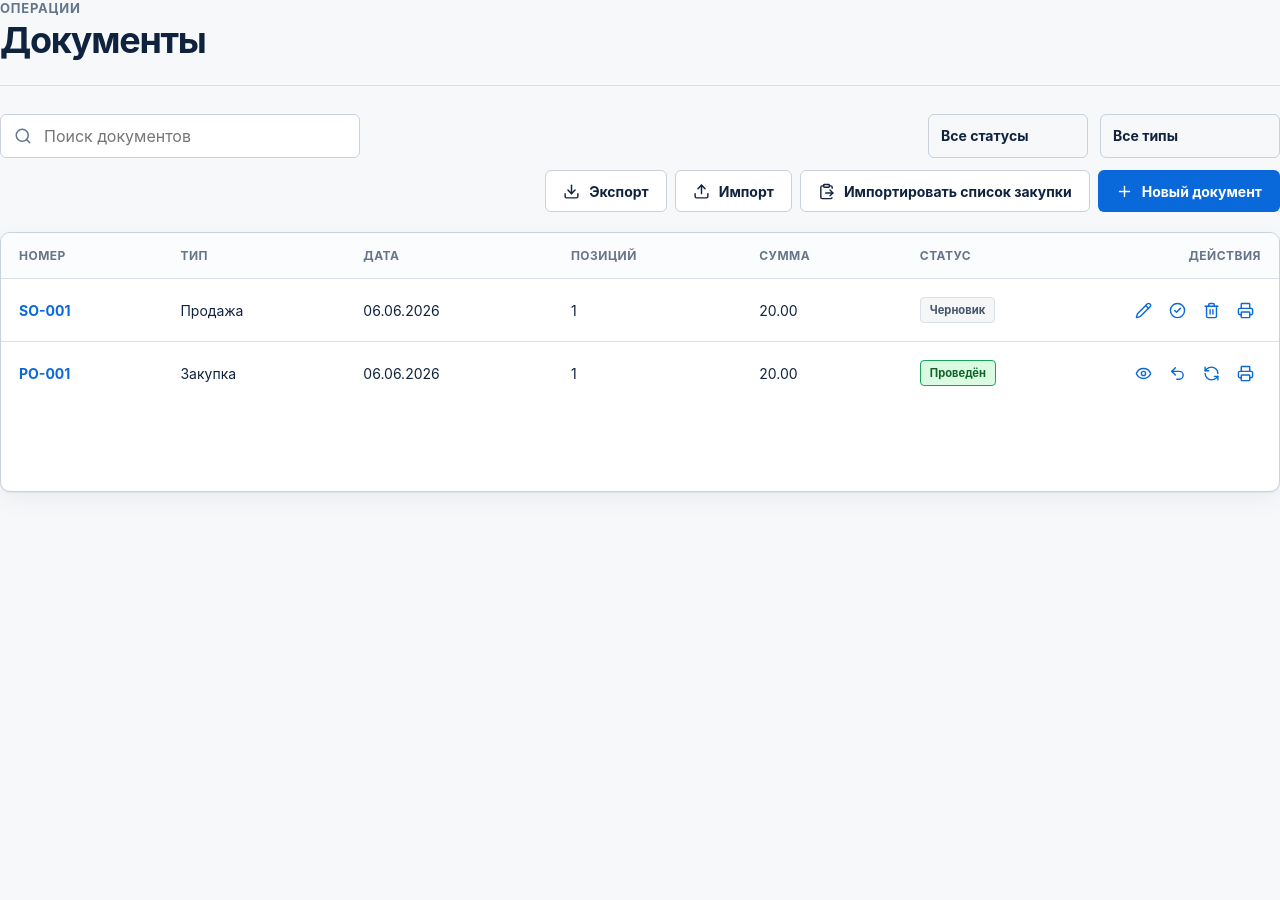
Test: documents workspace › warns about insufficient stock while editing a sale draft
The width and height of the screenshot is (1280, 900).
Expected: the button "SO-001" is shown, x1=19 y1=302 x2=70 y2=319
Click the button "Новый документ": [1189, 191] box x1=1098 y1=170 x2=1279 y2=212
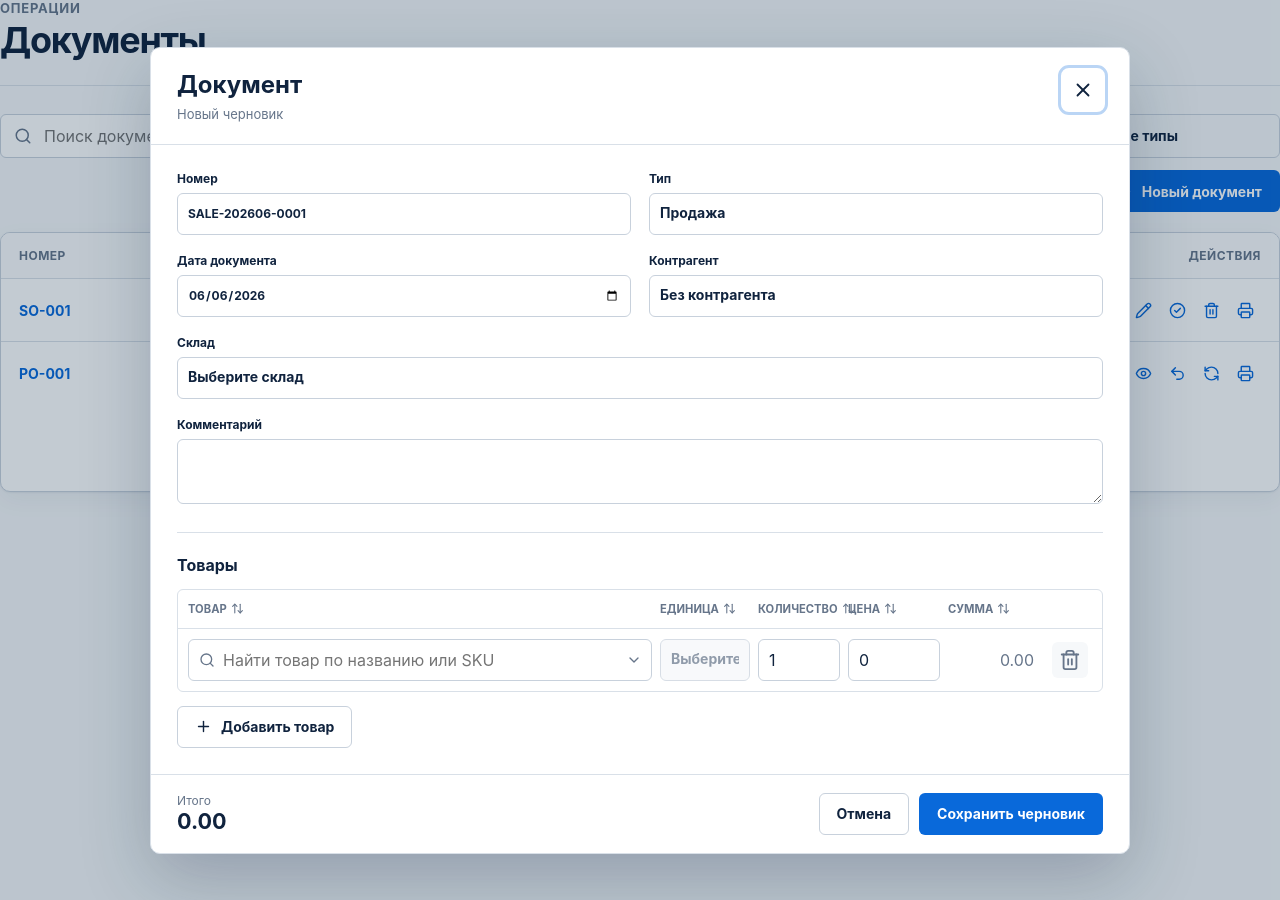
Replace the text in the field labelled "Номер" with "SO-003": [404, 214] box x1=177 y1=192 x2=631 y2=234
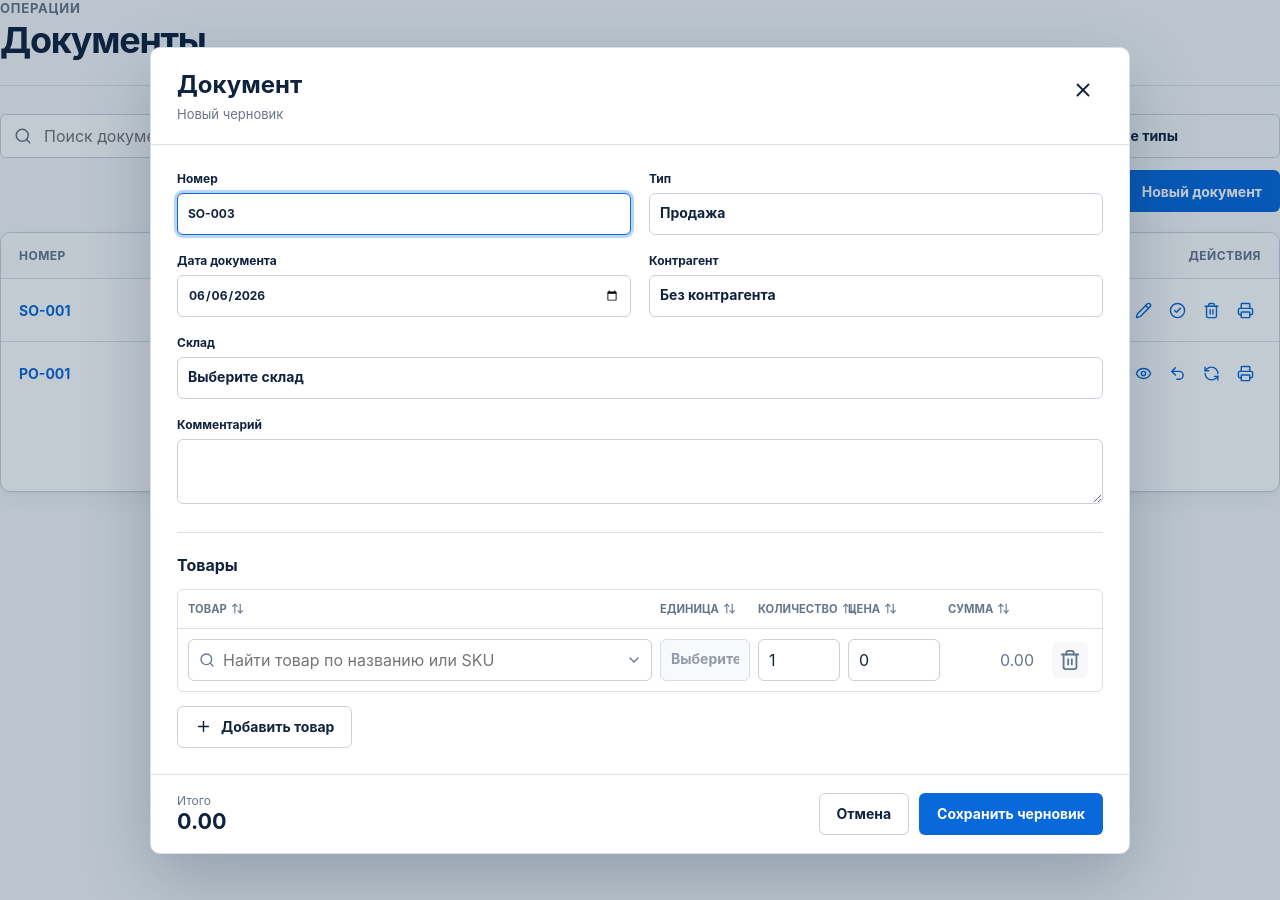
Select "MAIN · Main" in the dropdown labelled "Склад": [640, 378] box x1=177 y1=356 x2=1103 y2=398
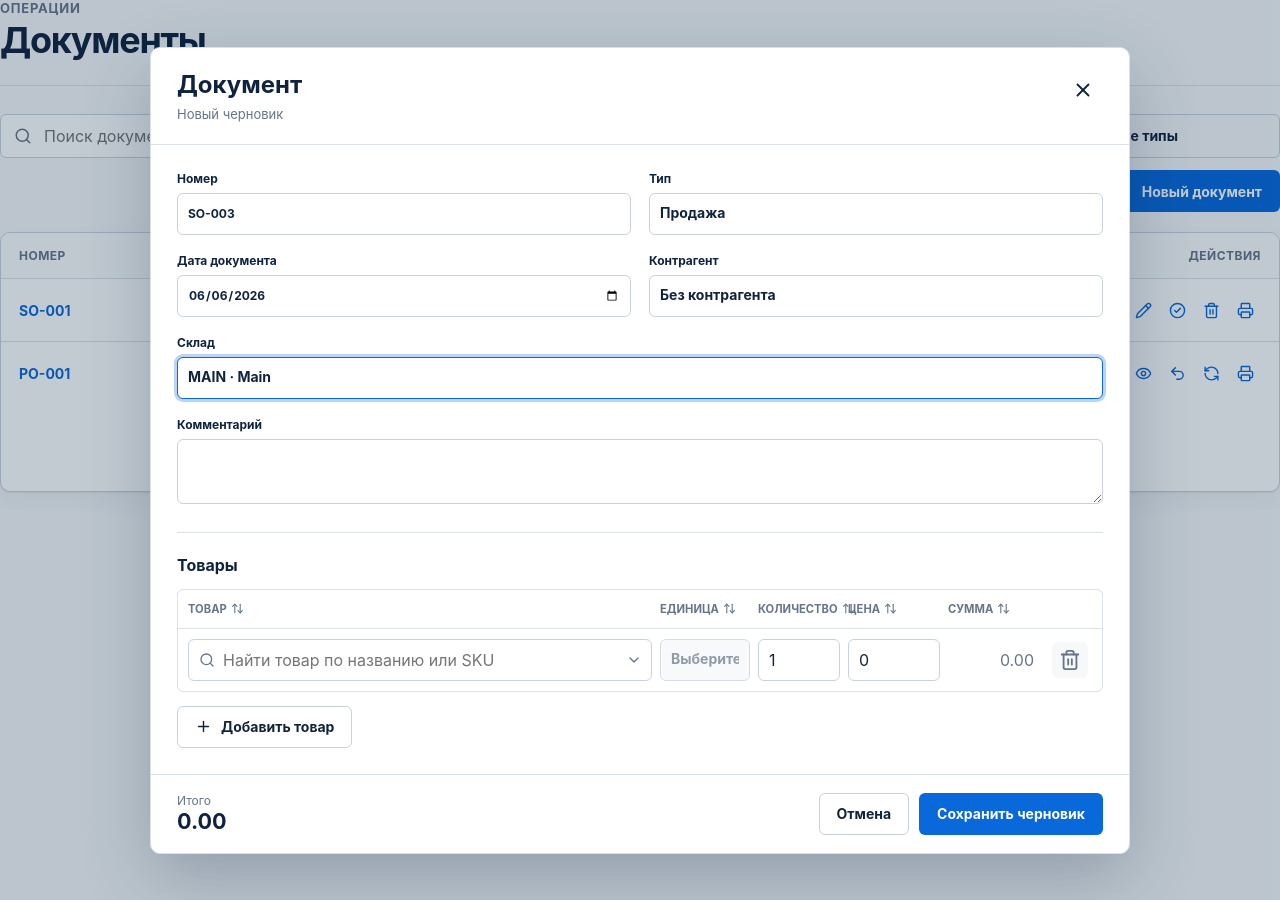
Click the dropdown labelled "товар": [420, 660] box x1=188 y1=638 x2=652 y2=680
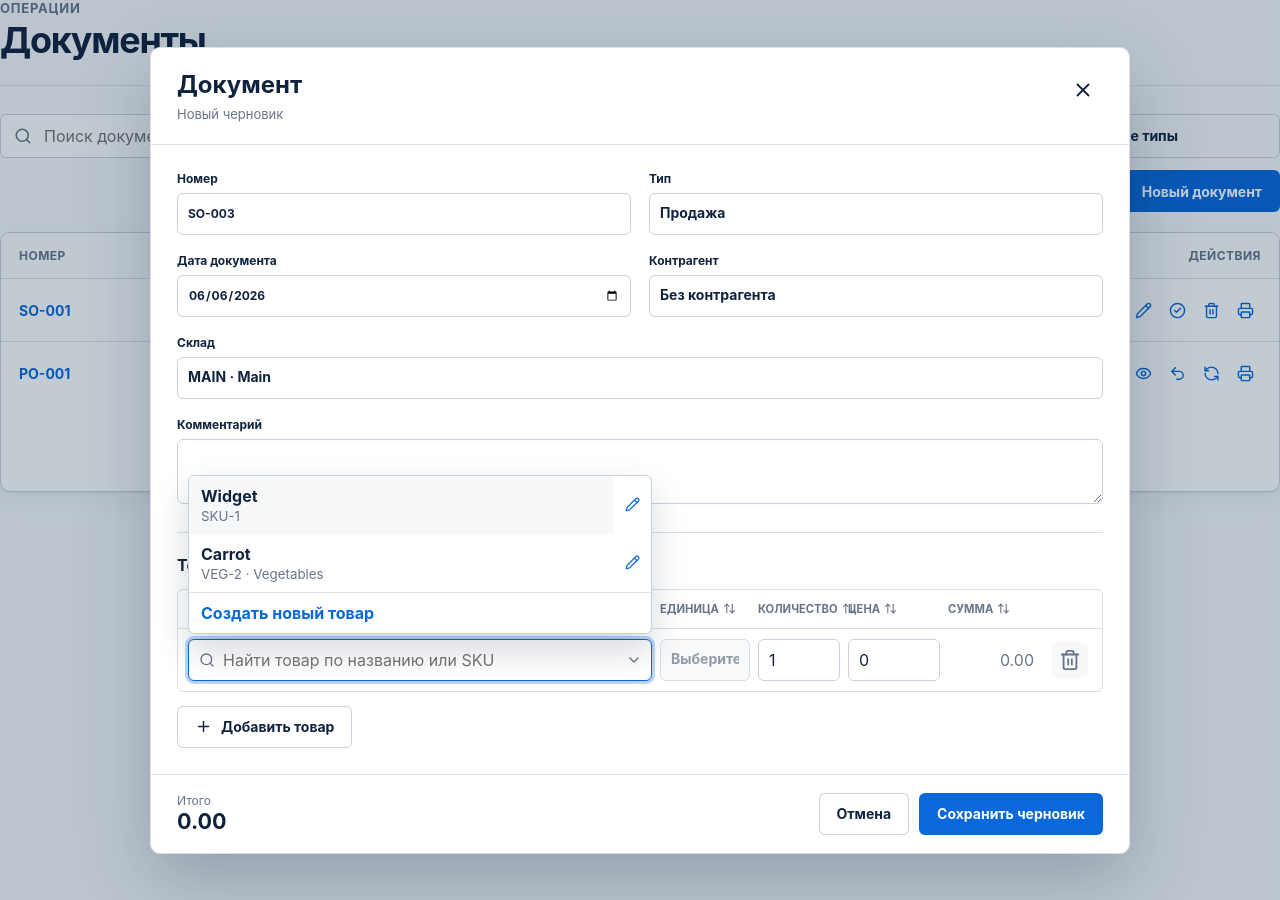
Click the option with aria-label "SKU-1 · Widget": [229, 496] box x1=189 y1=476 x2=613 y2=534
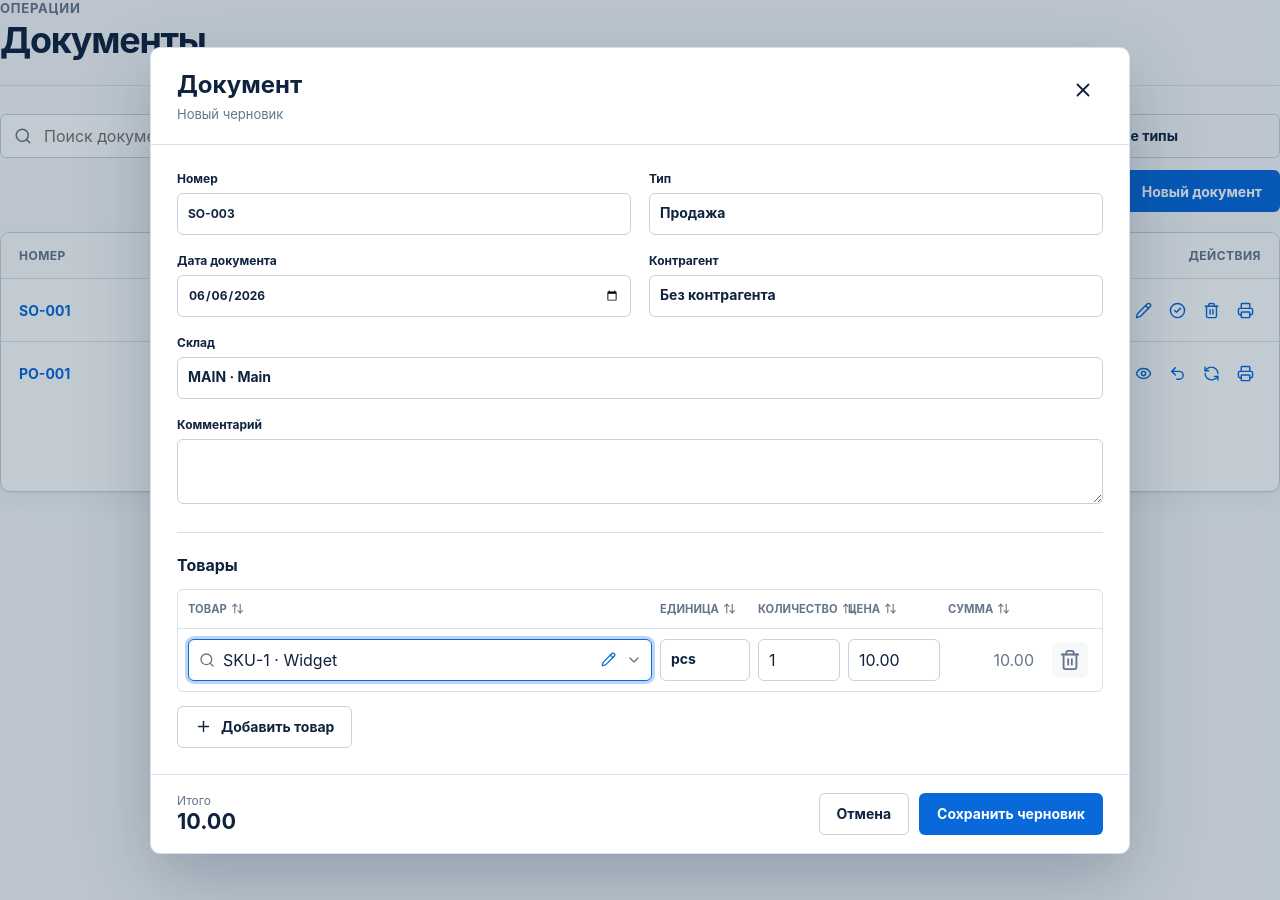
Replace the text in the field named "Количество" with "2": [799, 660] box x1=758 y1=638 x2=840 y2=680
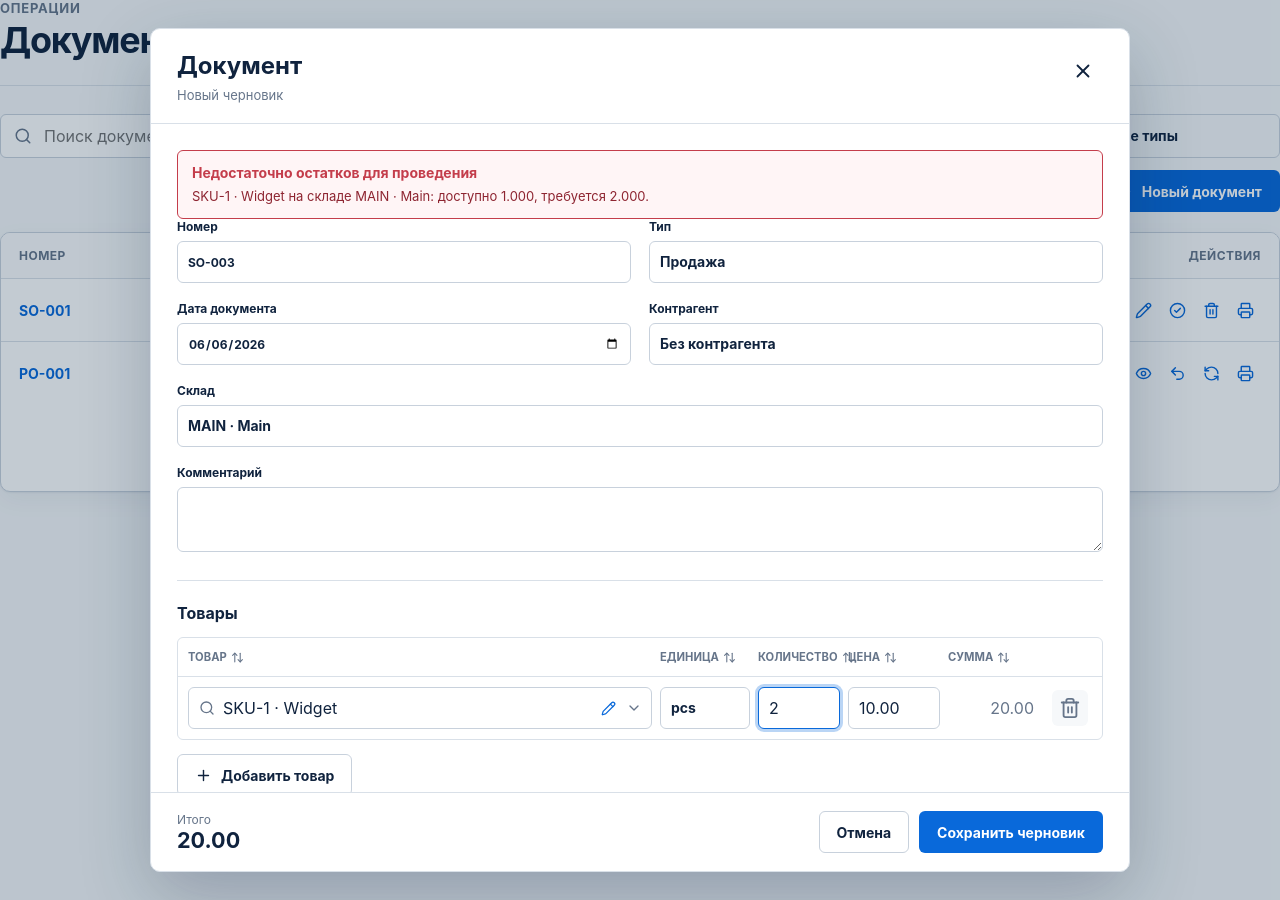
Now the message shows "Недостаточно остатков для проведения", box x1=192 y1=164 x2=477 y2=181
Now the message shows "SKU-1 · Widget", box x1=192 y1=188 x2=649 y2=204
Now the message shows "доступно 1.000, требуется 2.000", box x1=192 y1=188 x2=649 y2=204
